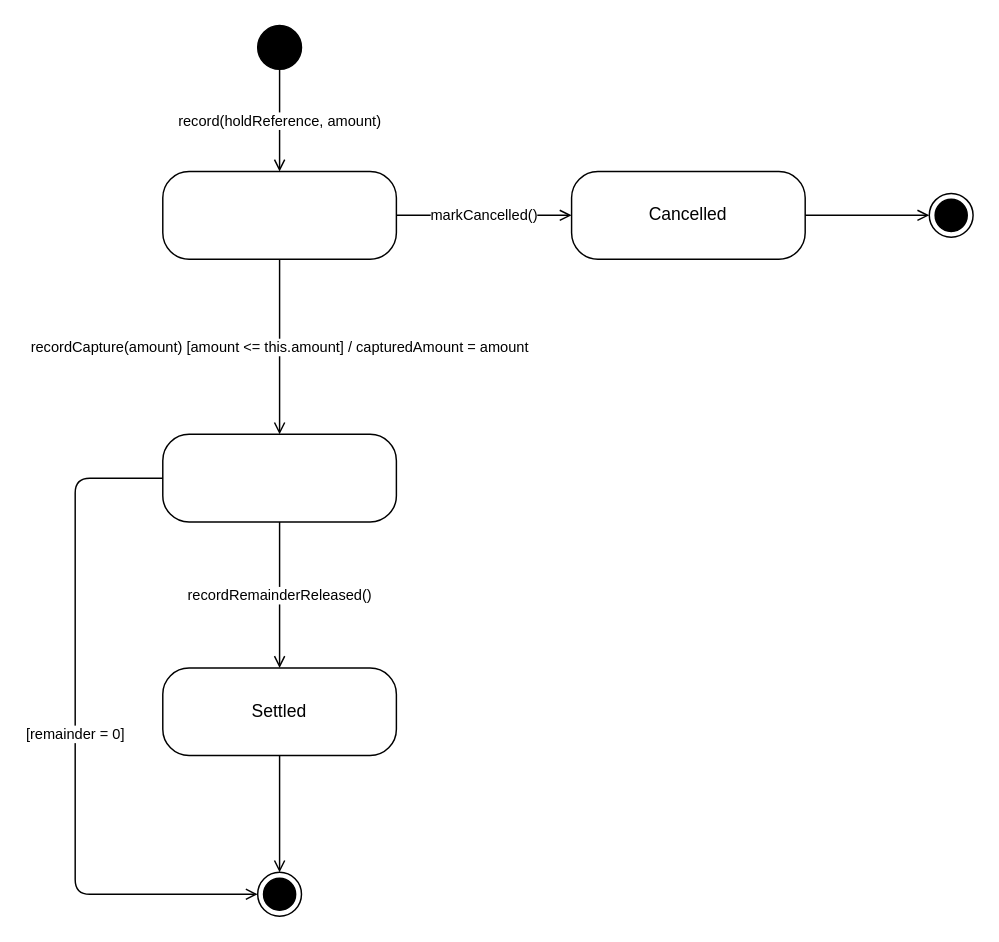
Image size: 999x942. Some labels were removed from this diagram. Each missing label, with the centre of its shape:
Active: the point at 278,214
Captured: the point at 278,477
